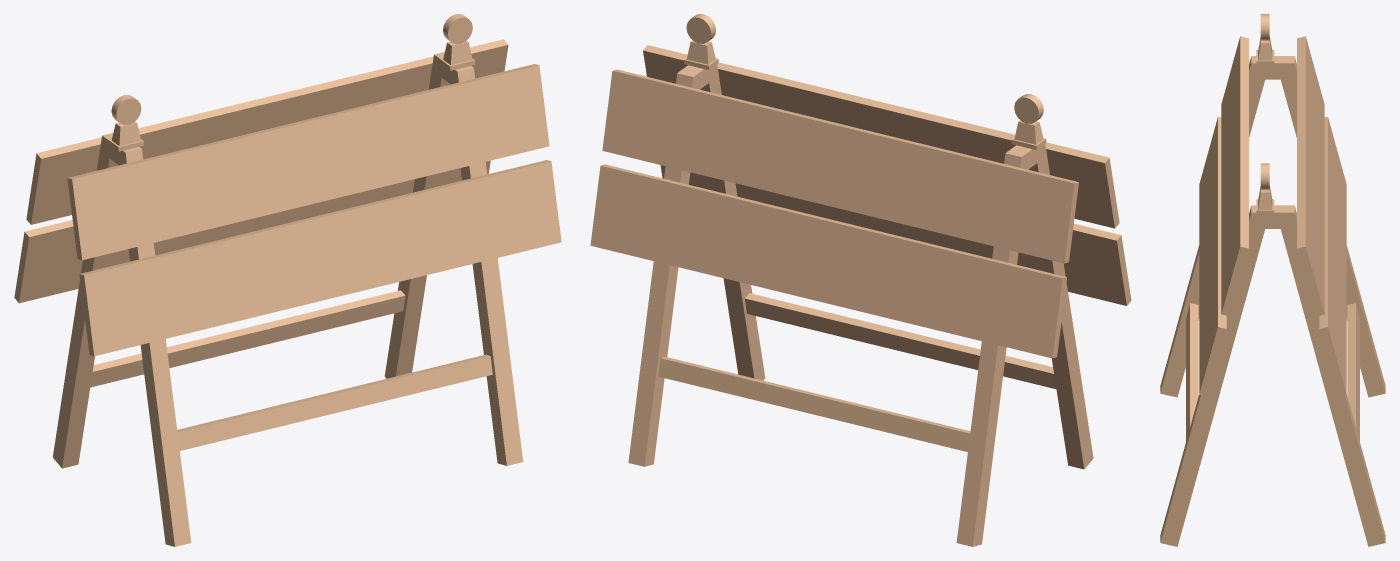
The model's file is SM_blockadesign_01.glb.
3 views of the same model, side by side, from view 1: azimuth 30°, elevation 25°; view 2: azimuth 150°, elevation 25°; view 3: azimuth 270°, elevation 25° (orthographic). The views are drawn at different scales.
Parts seen in each view (by area): view 1: SM_blockadesign_01; view 2: SM_blockadesign_01; view 3: SM_blockadesign_01.
Part boxes in pixels (box(x1,y1,x2,y2)): SM_blockadesign_01: box(14, 14, 561, 546); SM_blockadesign_01: box(590, 14, 1131, 546); SM_blockadesign_01: box(1160, 14, 1385, 546).
Size of the model in its own units: 2.92 by 2.45 by 1.32.
